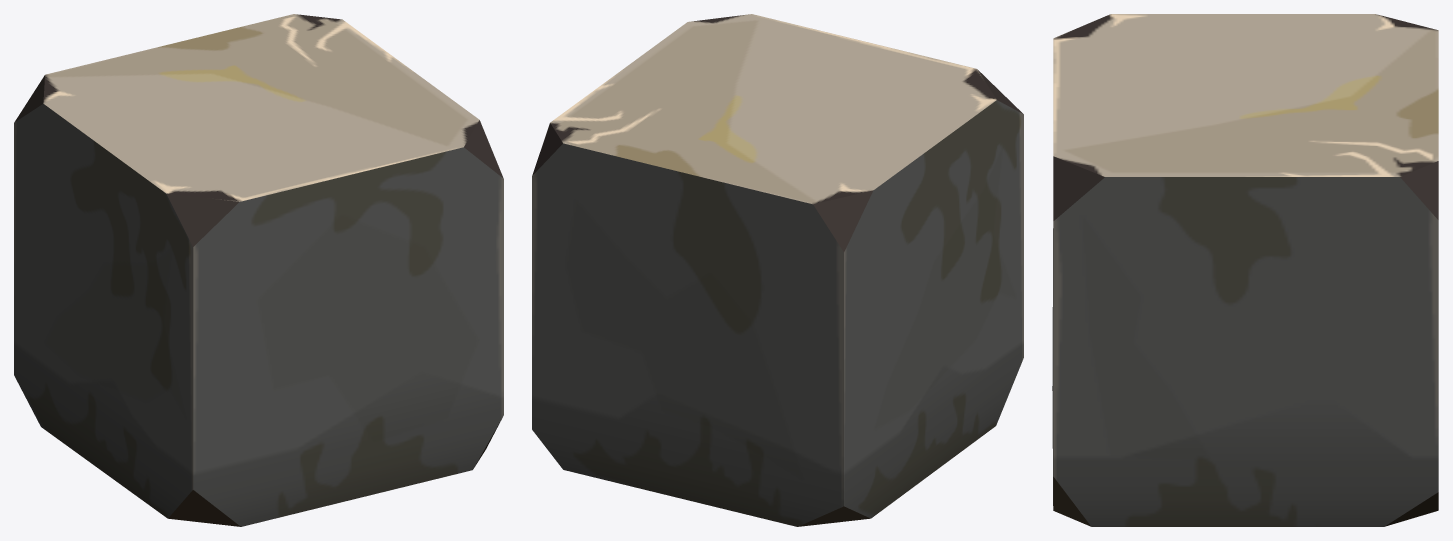
Rendered from Rock_04_001.fbx.
The picture shows the model from 3 angles, left to right: view 1: azimuth 30°, elevation 25°; view 2: azimuth 150°, elevation 25°; view 3: azimuth 270°, elevation 25°; orthographic projection. The views are drawn at different scales.
Visible parts, largest first — view 1: Rock_04_001; view 2: Rock_04_001; view 3: Rock_04_001.
Boxes of the visible parts, bbox=[...] form: Rock_04_001: bbox=[14, 14, 503, 526]; Rock_04_001: bbox=[532, 14, 1023, 526]; Rock_04_001: bbox=[1052, 14, 1438, 526].
Bounding box in the file's own units: 2 × 2 × 2.
1 material, 1 textured.
